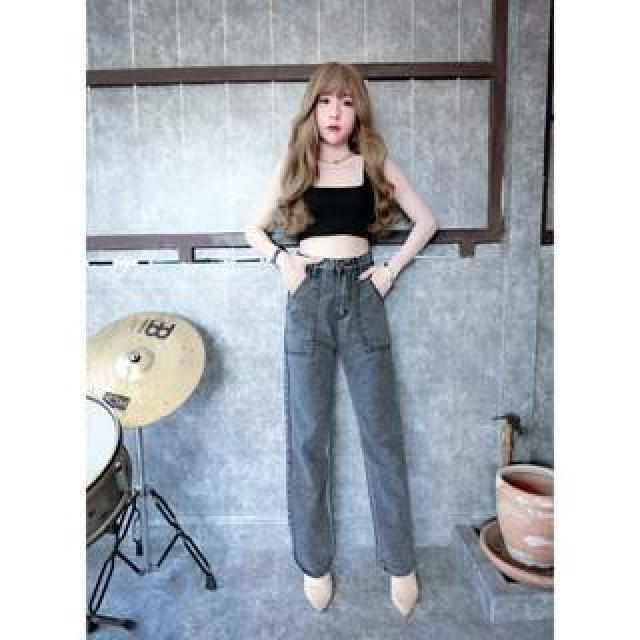pants: (280, 258, 420, 574)
